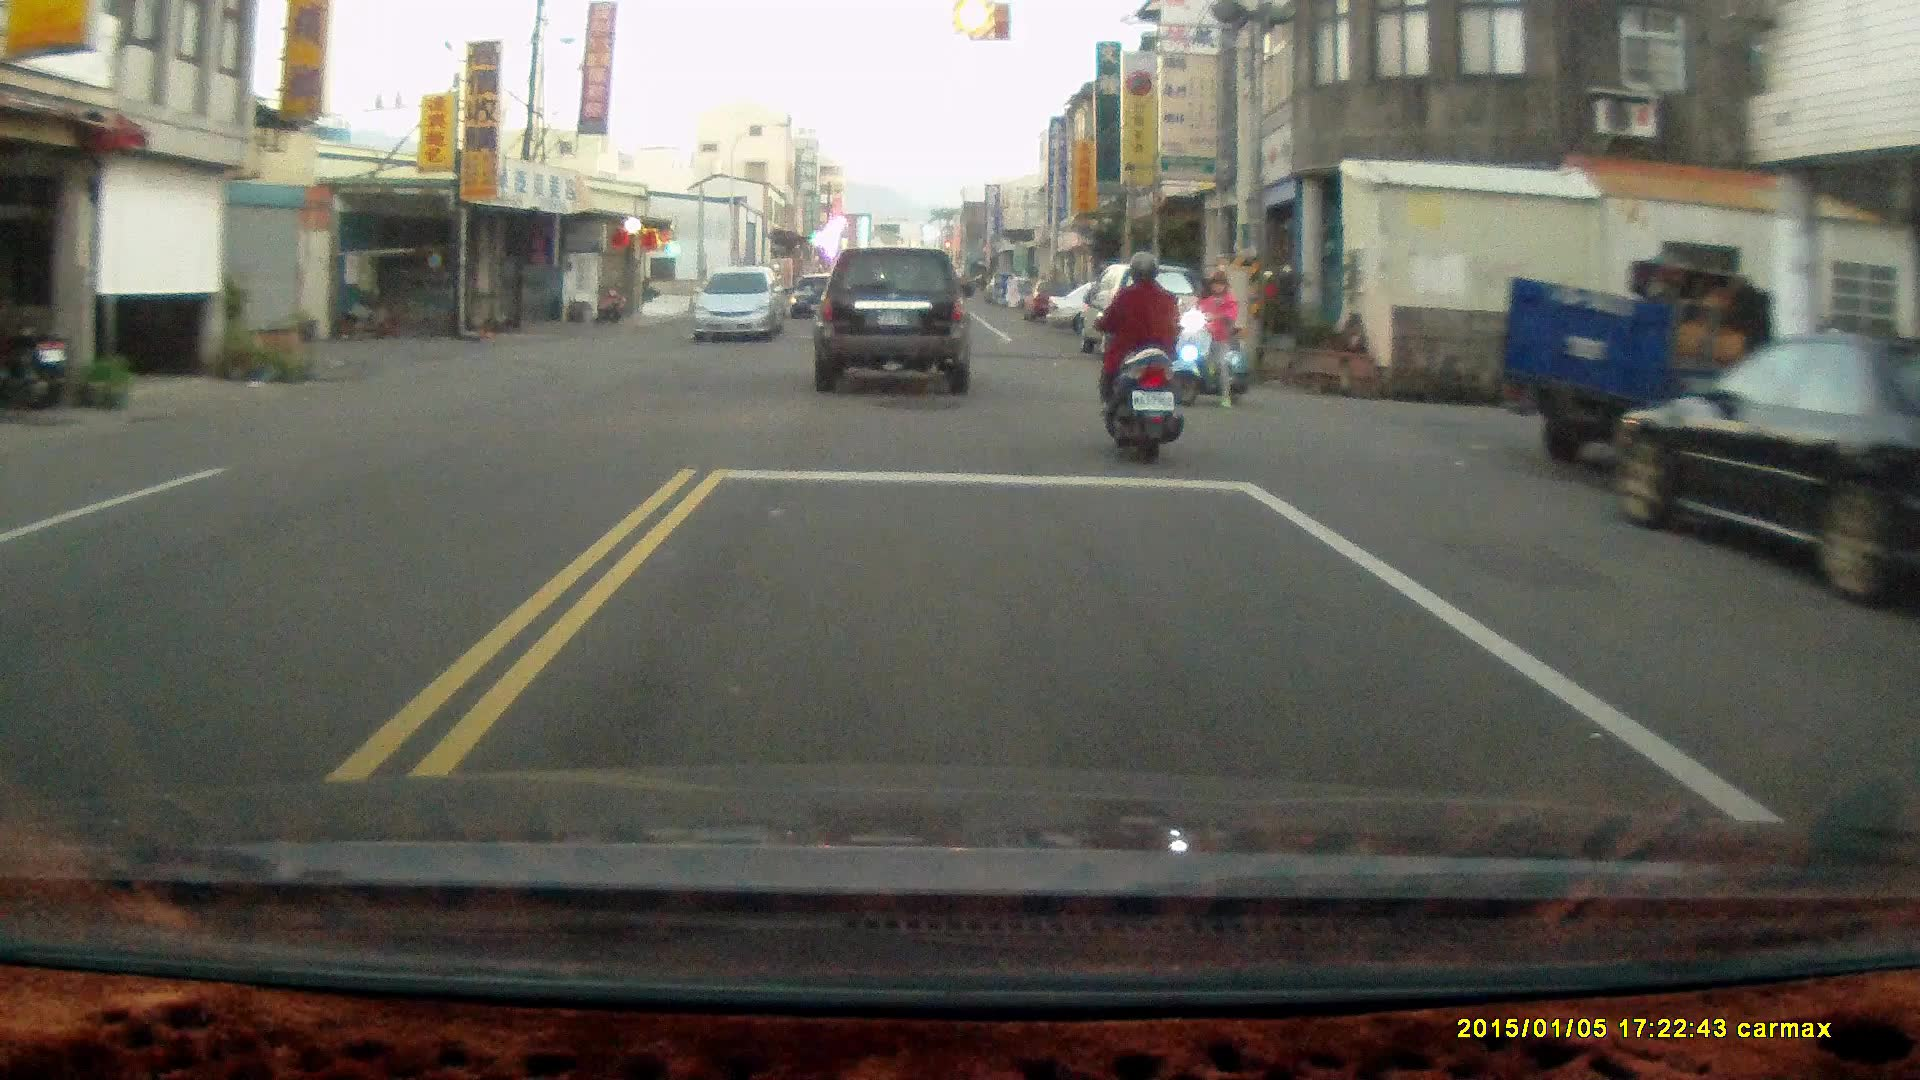rider: (1097, 248, 1181, 474), (1173, 271, 1254, 404)
vehicle: (1616, 327, 1920, 592), (1501, 261, 1788, 478), (811, 248, 980, 402), (1084, 264, 1210, 360), (692, 266, 791, 345)
